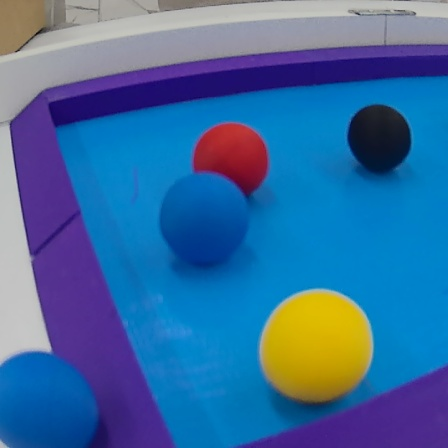black: (342, 101, 420, 175)
blue: (0, 350, 99, 448), (157, 174, 253, 272)
blue_aim: (11, 38, 448, 448)
red: (188, 119, 271, 199)
yellow: (254, 283, 380, 409)
